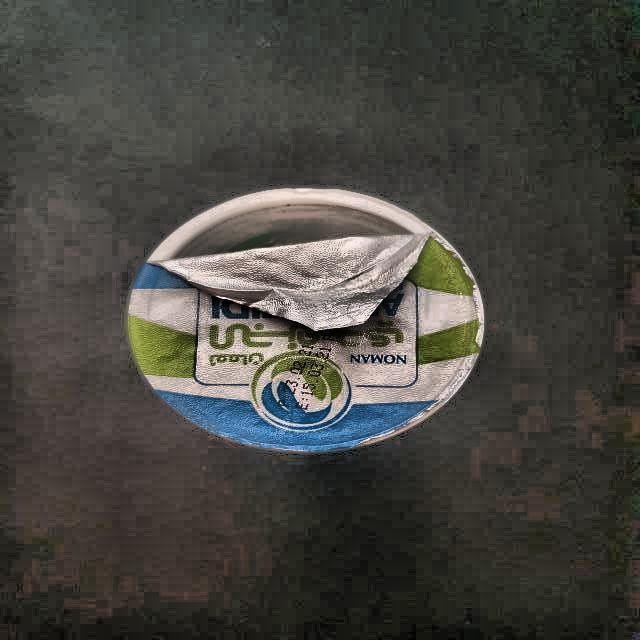plastic: (130, 189, 484, 452)
